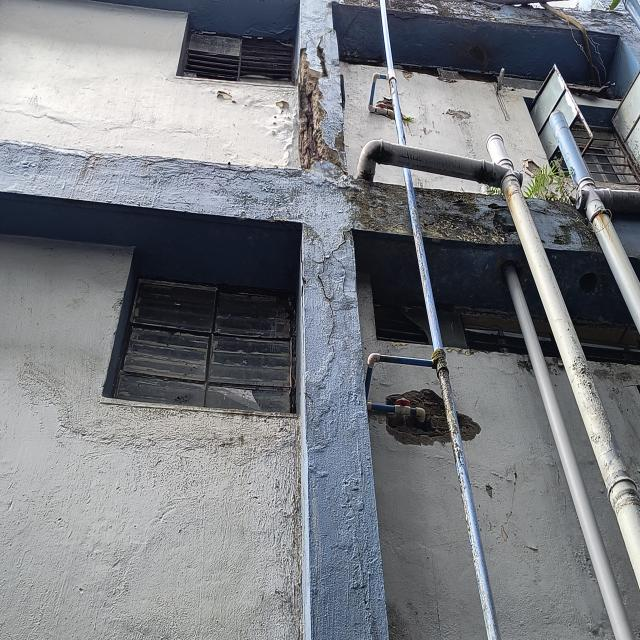crack: (306, 247, 337, 387), (332, 227, 351, 339), (387, 9, 455, 27)
peeling: (269, 94, 300, 121), (206, 89, 240, 106)
spalling: (298, 45, 345, 172), (385, 389, 451, 445), (457, 412, 481, 441)
stain_mould: (338, 0, 582, 29), (415, 188, 519, 245), (558, 8, 640, 67), (339, 176, 411, 234), (530, 201, 599, 250), (518, 160, 581, 206)
